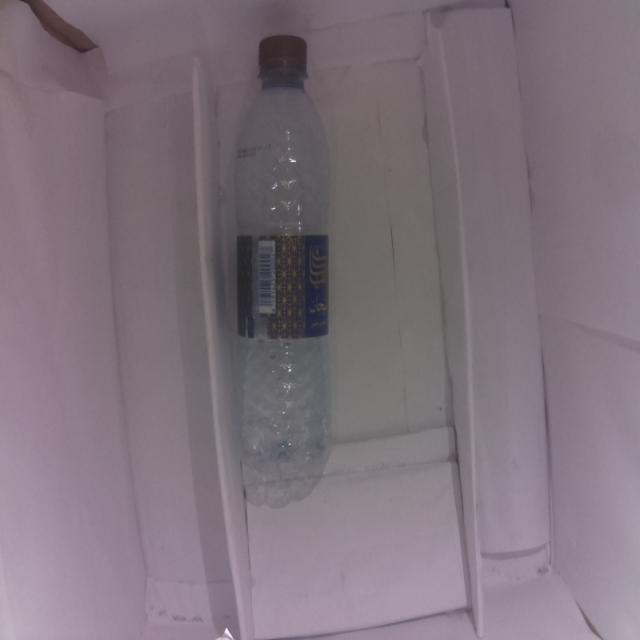Anorganik: (242, 27, 330, 520)
